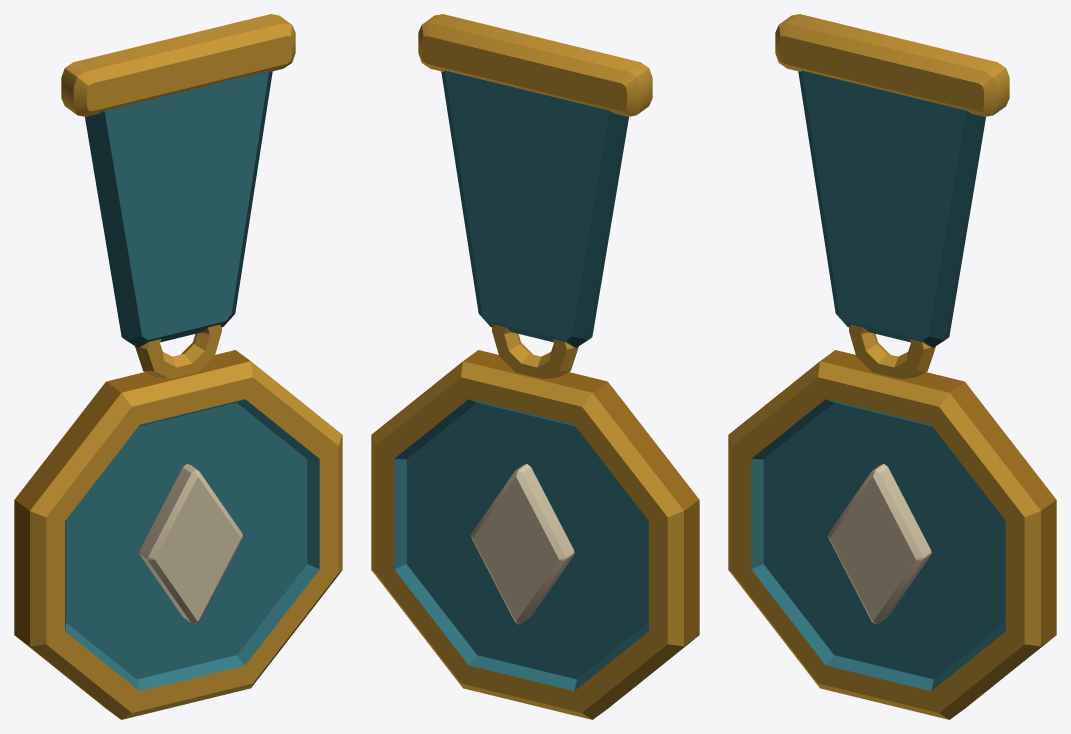
File: Medal_10.glb
3 renders of one model, left to right at view 1: azimuth 30°, elevation 25°; view 2: azimuth 150°, elevation 25°; view 3: azimuth 330°, elevation 25°, orthographic.
Parts seen in each view (by area): view 1: Medal_10; view 2: Medal_10; view 3: Medal_10.
Part boxes in pixels (x1,y1,x2,y2): Medal_10: (14, 14, 342, 719); Medal_10: (371, 14, 699, 719); Medal_10: (728, 14, 1056, 719).
Size of the model in its own units: 1.29 by 2.59 by 0.28.
